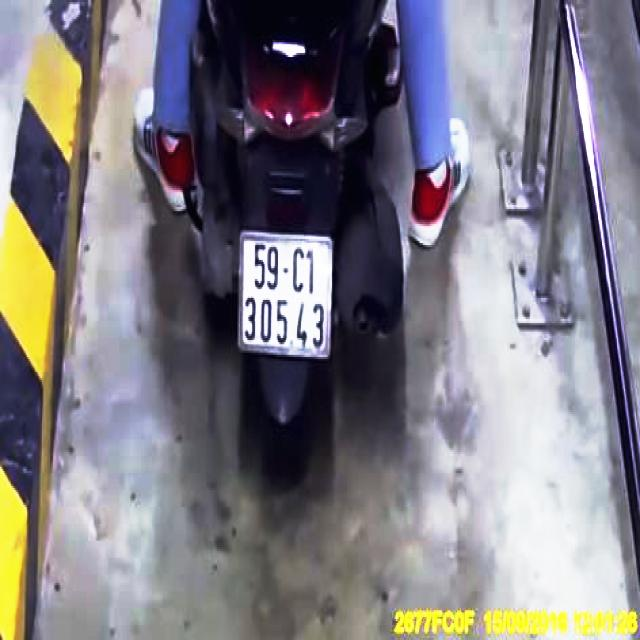license_plate: (241, 232, 333, 359)
